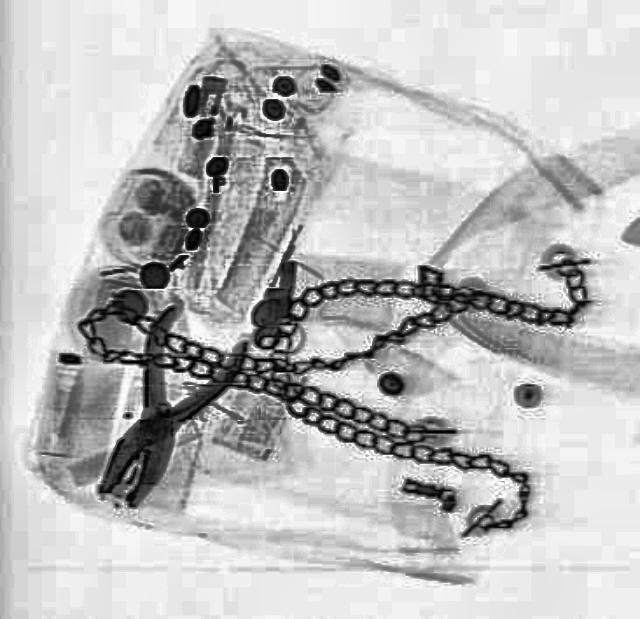Pliers: (63, 299, 257, 521)
